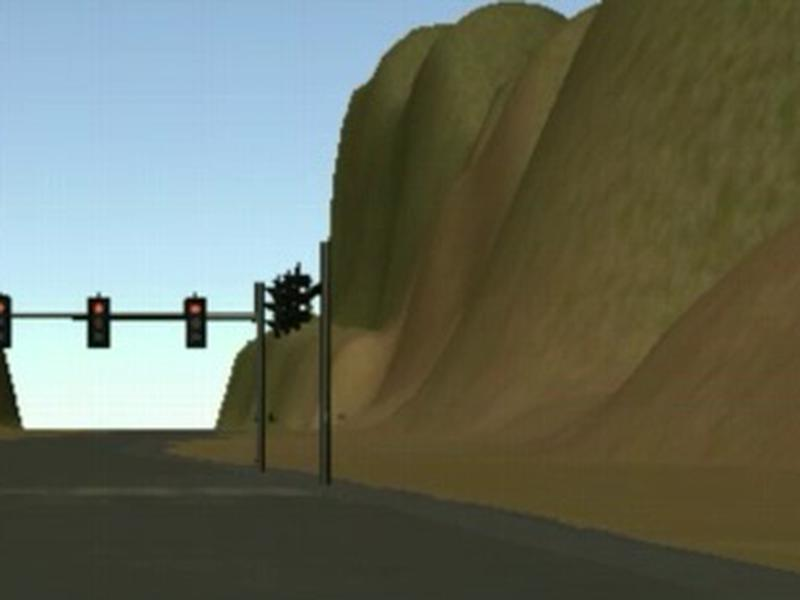Red: (184, 298, 208, 347), (87, 297, 109, 347), (1, 295, 10, 348)
